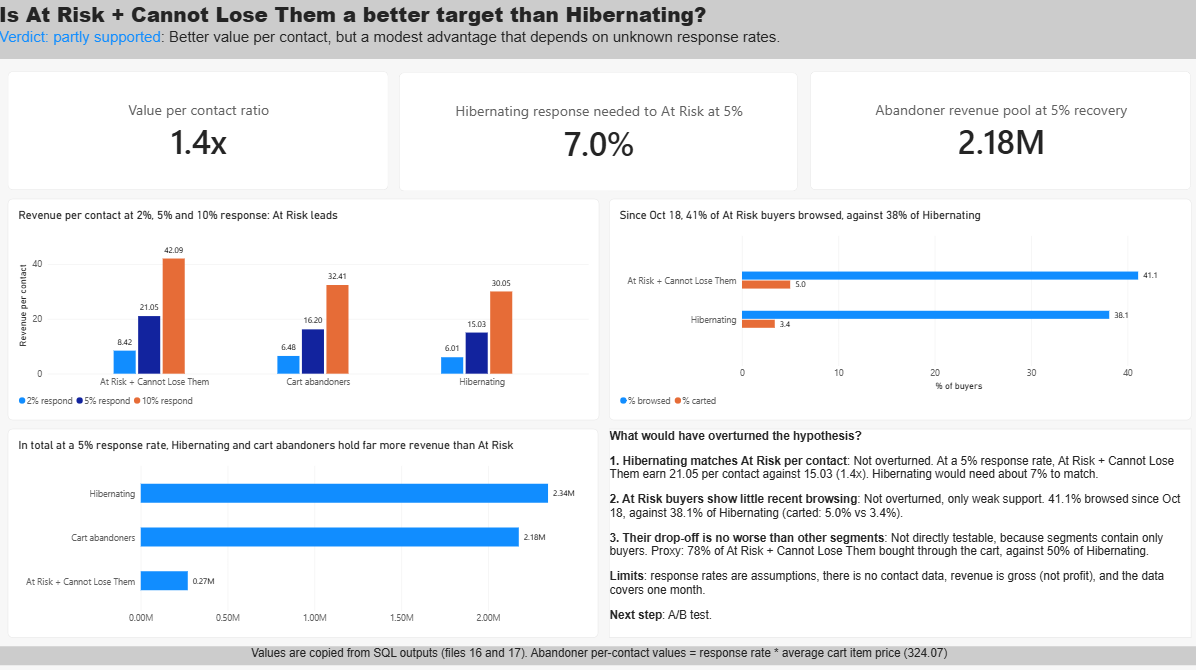

The page's visual inventory and layout, read from the dashboard file:
{"tool":"powerbi","page":{"name":"3-Hypothesis","canvas":[1920,1080],"ordinal":2},"visuals":[{"type":"textbox","box":[0,0,1920.1,94.1],"z":0},{"type":"cardVisual","fields":{"Data":["v_overall_funnel.Value per contact ratio"]},"box":[14.5,114,609.9,190],"z":1},{"type":"cardVisual","fields":{"Data":["v_overall_funnel.Break-even response %"]},"box":[640.6,115.8,638.8,190],"z":2},{"type":"cardVisual","fields":{"Data":["v_overall_funnel.Abandoner pool at 5%"]},"box":[1297.5,114,609.9,190],"z":3},{"type":"clusteredColumnChart","title":"Revenue per contact at 2%, 5% and 10% response: At Risk leads","fields":{"Category":["v_hypothesis_pools.pool"],"Y":["Sum(v_hypothesis_pools.per_contact_2pct)","Sum(v_hypothesis_pools.per_contact_5pct)","Sum(v_hypothesis_pools.per_contact_10pct)"]},"box":[14.5,318.5,946.5,354.7],"z":4},{"type":"clusteredBarChart","title":"Since Oct 18, 41% of At Risk buyers browsed, against 38% of Hibernating","fields":{"Category":["v_hypothesis_activity.grp"],"Y":["Sum(v_hypothesis_activity.pct_browsed)","Sum(v_hypothesis_activity.pct_carted)"]},"box":[975.4,318.5,932,354.7],"z":5},{"type":"clusteredBarChart","title":"In total at a 5% response rate, Hibernating and cart abandoners hold far more revenue than At Risk","fields":{"Category":["v_hypothesis_pools.pool"],"Y":["Sum(v_hypothesis_pools.total_5pct)"]},"box":[14.5,685.9,944.6,334.8],"z":6},{"type":"textbox","box":[975.4,685.9,932,334.8],"z":7},{"type":"textbox","box":[0,1033.3,1920.1,30.8],"z":8}]}

Visuals, with their boxes in screenshot pixels (x1, y1, x2, y2), scaled from the page's 1920x1080 canvas onto the 1196x670 screenshot:
textbox: [0,0,1195,58]
cardVisual - v_overall_funnel.Value per contact ratio: [9,71,389,189]
cardVisual - v_overall_funnel.Break-even response %: [399,72,797,190]
cardVisual - v_overall_funnel.Abandoner pool at 5%: [808,71,1188,189]
"Revenue per contact at 2%, 5% and 10% response: At Risk leads" clusteredColumnChart: [9,198,599,418]
"Since Oct 18, 41% of At Risk buyers browsed, against 38% of Hibernating" clusteredBarChart: [608,198,1188,418]
"In total at a 5% response rate, Hibernating and cart abandoners hold far more revenue than At Risk" clusteredBarChart: [9,426,597,633]
textbox: [608,426,1188,633]
textbox: [0,641,1195,660]
